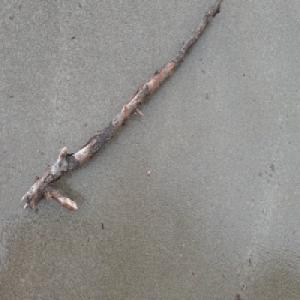Wood: (20, 0, 223, 211)
